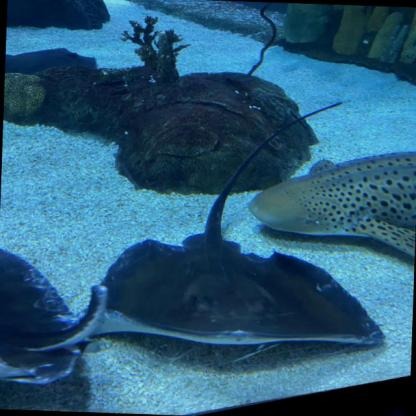shark: (245, 141, 415, 272)
stingray: (98, 230, 388, 352), (0, 245, 83, 389), (4, 46, 97, 88)
